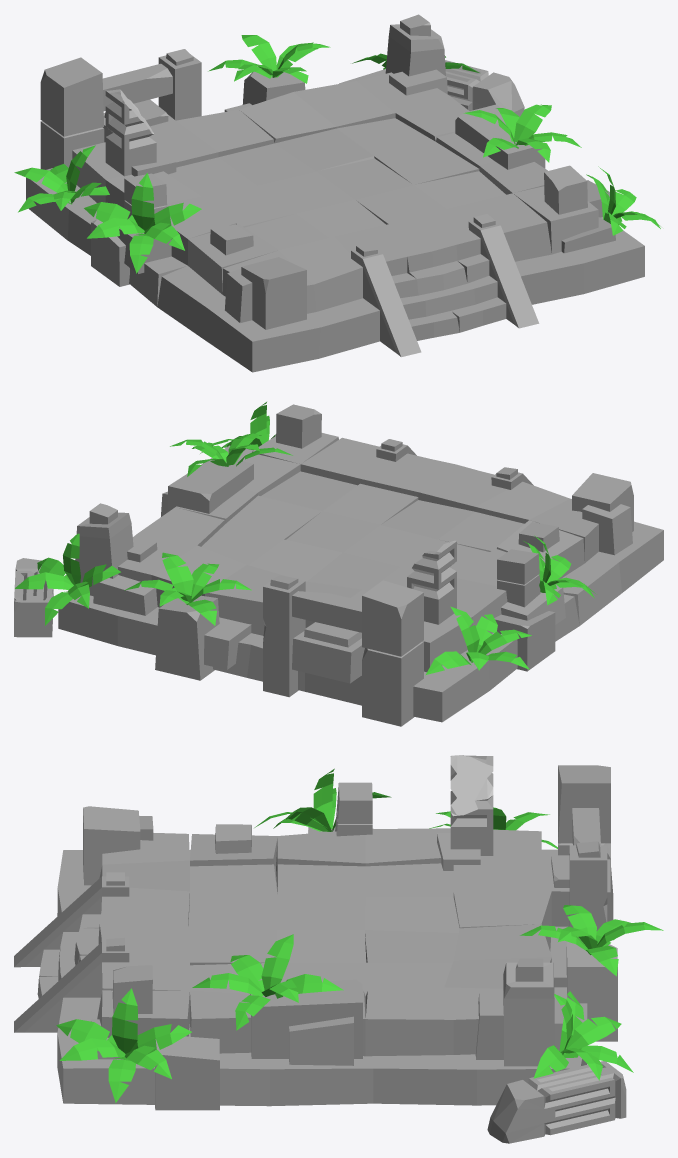
The model's file is ruintemple1.fbx.
3 renders of one model, top to bottom at view 1: azimuth 30°, elevation 25°; view 2: azimuth 150°, elevation 25°; view 3: azimuth 270°, elevation 25°, orthographic. The views are drawn at different scales.
Visible parts, largest first — view 1: Temple, FernB.002, FernA.001, FernB, FernA, FernB.003; view 2: Temple, FernB.001, FernA, FernB, FernA.001, FernB.002, FernB.003; view 3: Temple, FernB.003, FernA.001, FernB.001, FernA, FernB.002, FernB.
Part boxes in pixels (<box>): Temple: <box>26,14,644,372</box>; FernB.002: <box>84,173,201,273</box>; FernA.001: <box>463,104,581,162</box>; FernB: <box>14,145,109,212</box>; FernA: <box>208,35,330,83</box>; FernB.003: <box>586,166,660,235</box>; Temple: <box>14,404,663,726</box>; FernB.001: <box>15,533,120,625</box>; FernA: <box>124,552,251,625</box>; FernB: <box>426,606,531,674</box>; FernA.001: <box>170,433,292,476</box>; FernB.002: <box>523,535,595,605</box>; FernB.003: <box>200,402,275,453</box>; Temple: <box>14,755,626,1143</box>; FernB.003: <box>56,988,191,1102</box>; FernA.001: <box>192,934,343,1030</box>; FernB.001: <box>533,991,633,1080</box>; FernA: <box>520,905,663,976</box>; FernB.002: <box>254,768,391,831</box>; FernB: <box>429,807,557,848</box>.
Bounding box in the file's own units: 525 × 134 × 503.
